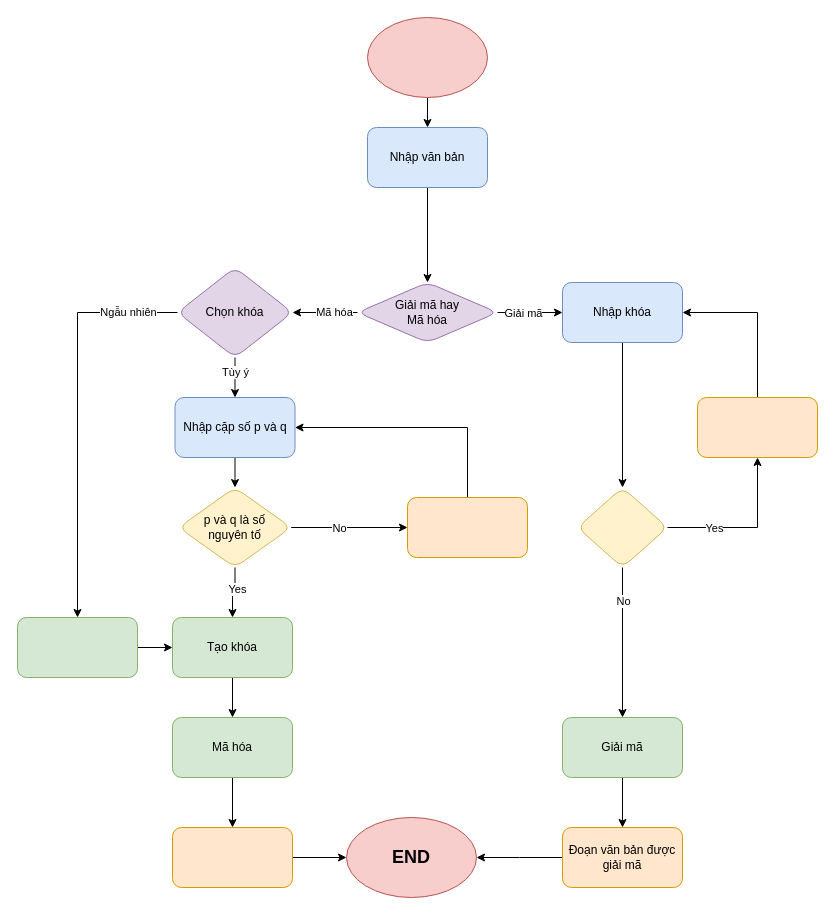
This 835x915 diagram has some shape labels left out. The centre of each missing label's shape, as x and y in pixels:
"Khóa trống?" goes at pixel 622 527.
"Sinh căp số p và q" goes at pixel 77 647.
"START" goes at pixel 427 57.
"Yêu cầu nhập khóa" goes at pixel 757 427.
"Yêu cầu nhập lại" goes at pixel 467 527.
"Đoạn văn bản được mã hóa và khóa" goes at pixel 232 857.
